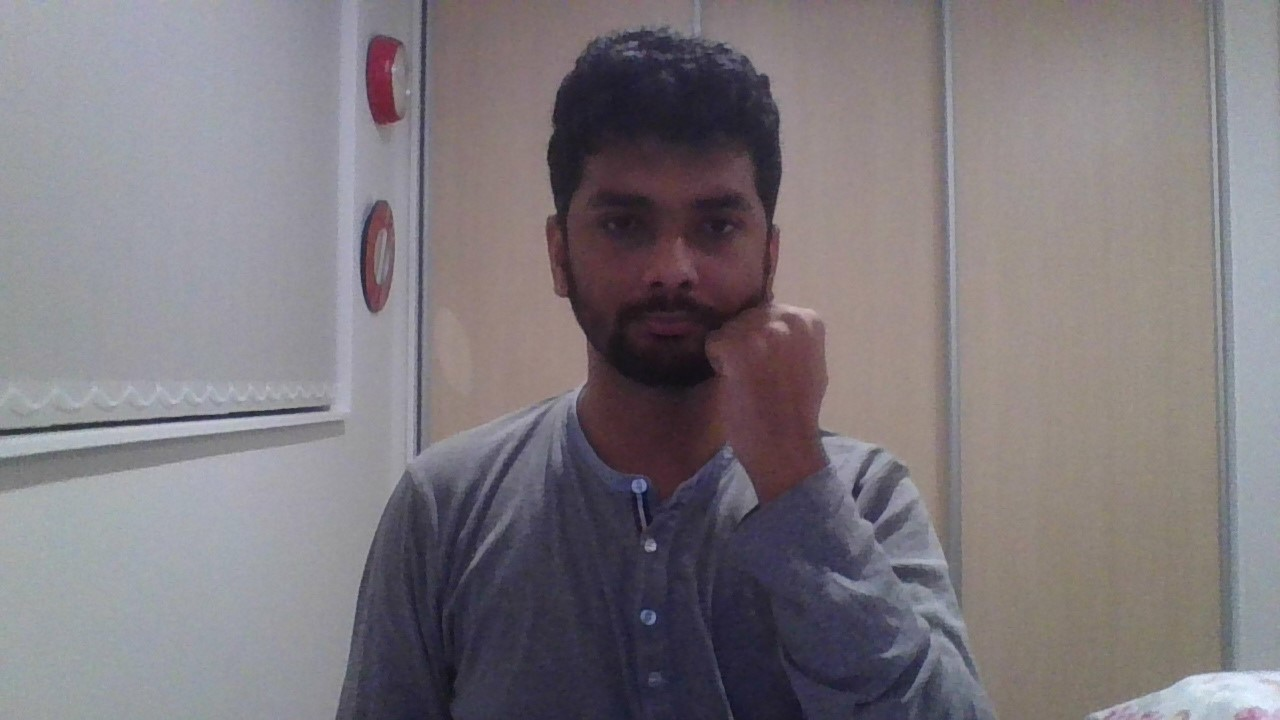day: (704, 304, 829, 505)
